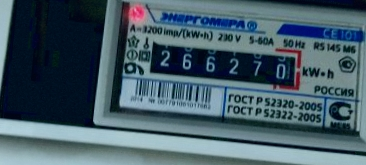0: (273, 59, 286, 80)
2: (157, 46, 173, 68), (226, 55, 240, 76)
6: (180, 50, 193, 71), (204, 52, 217, 72)
7: (249, 57, 263, 77)
screen: (135, 27, 313, 100)
